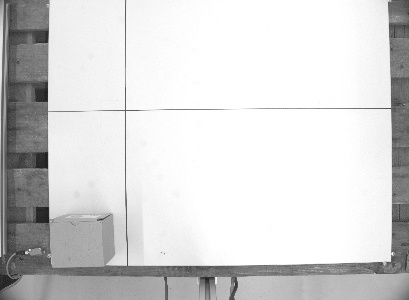b5: (49, 211, 117, 270)
